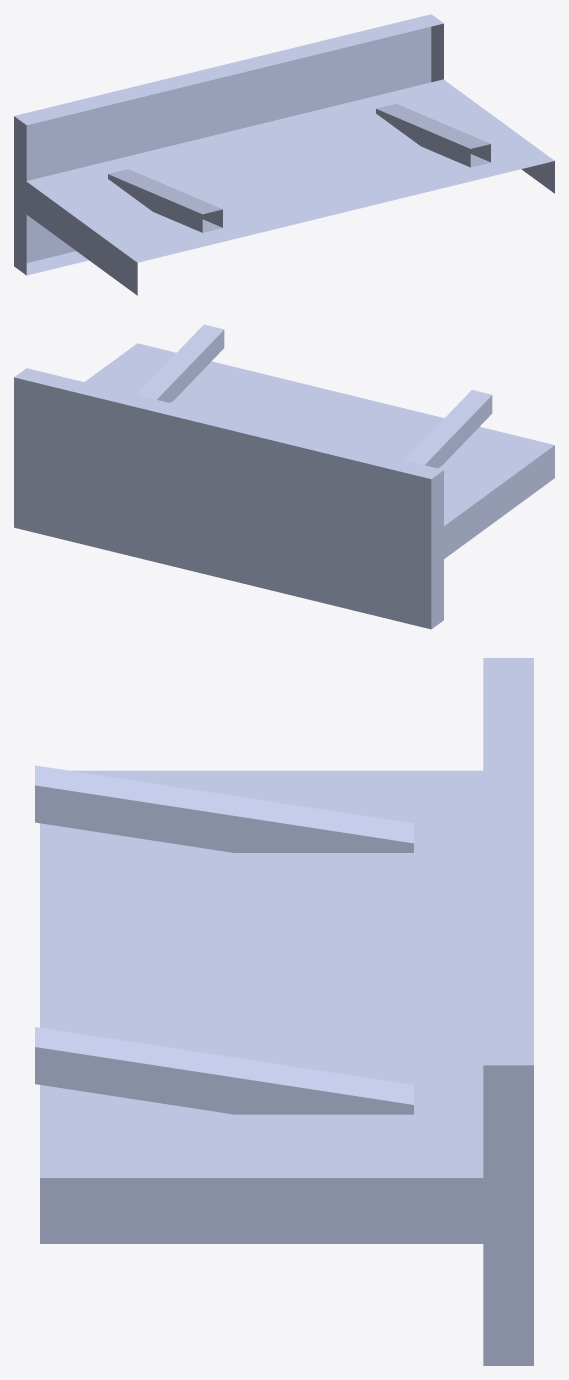
3 renders of one model, top to bottom at view 1: azimuth 30°, elevation 25°; view 2: azimuth 150°, elevation 25°; view 3: azimuth 270°, elevation 25°, orthographic. The views are drawn at different scales.
Parts seen in each view (by area): view 1: Object24; view 2: Object24; view 3: Object24.
Part boxes in pixels (<box>): Object24: <box>14,14,554,295</box>; Object24: <box>14,324,554,629</box>; Object24: <box>35,658,533,1365</box>.
Size of the model in its own units: 20347 by 6999 by 10538.
